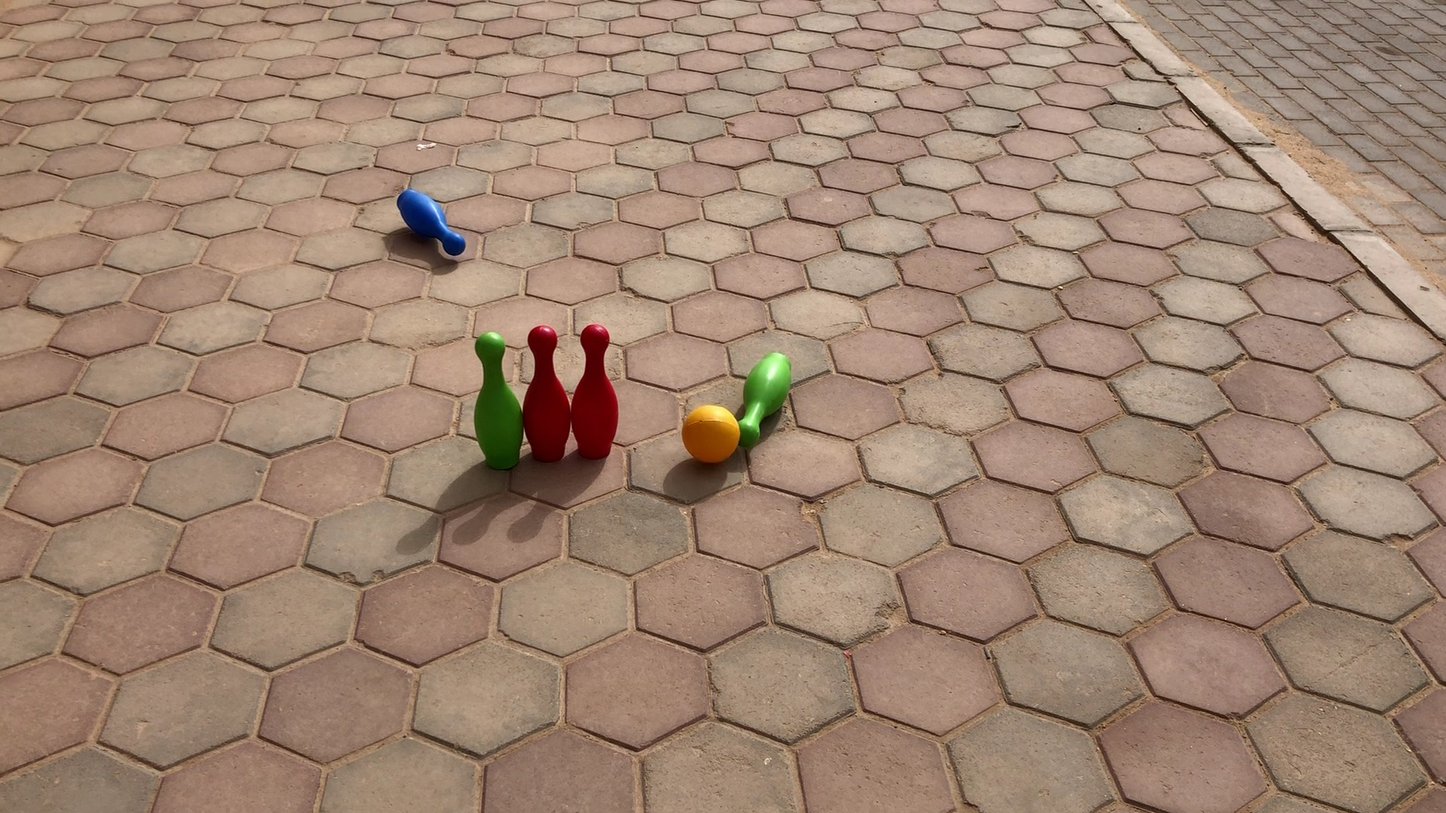pin: (477, 331, 526, 468), (569, 324, 617, 460), (401, 187, 469, 257), (744, 352, 792, 440)
